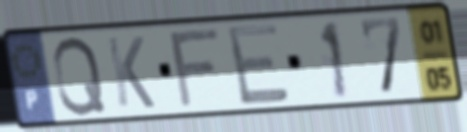1: (315, 17, 354, 101)
7: (356, 14, 406, 99)
E: (223, 20, 294, 110)
F: (166, 25, 224, 112)
K: (104, 34, 159, 111)
Q: (50, 34, 109, 118)
